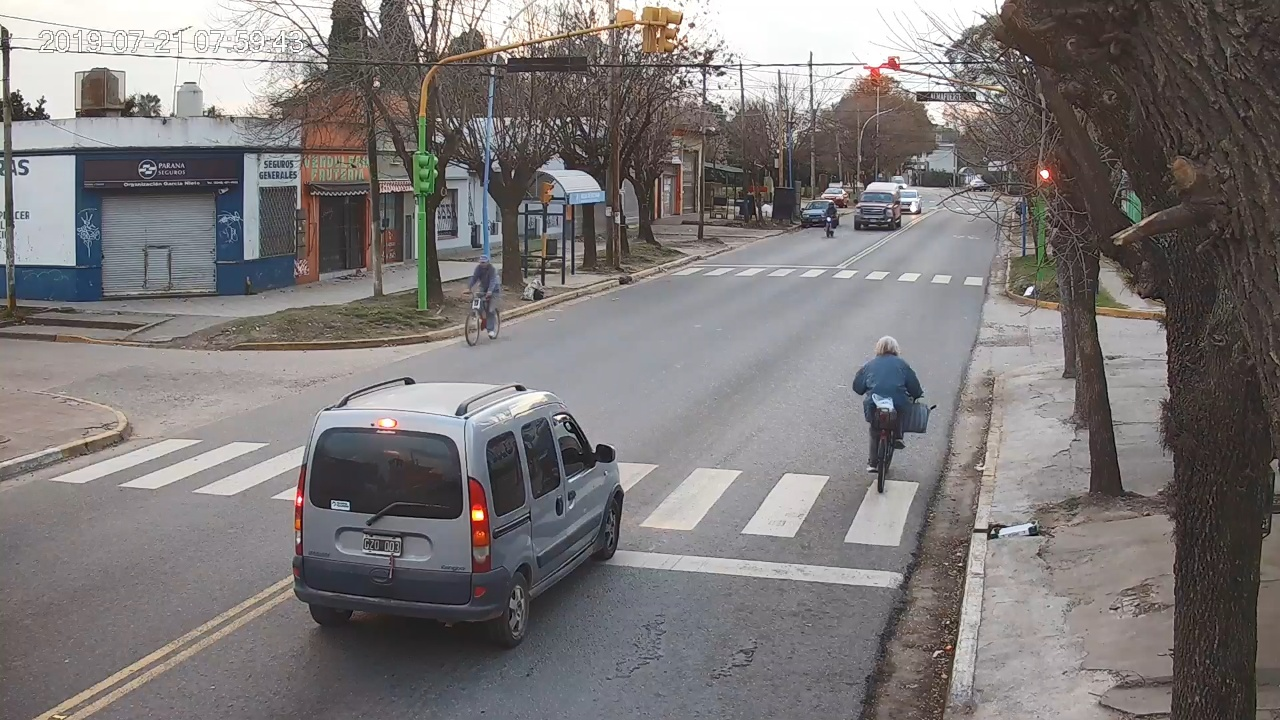bicycle: (853, 336, 938, 493)
car: (292, 377, 624, 647)
front bicycle: (463, 254, 501, 346)
traffic light: (870, 52, 882, 86)
